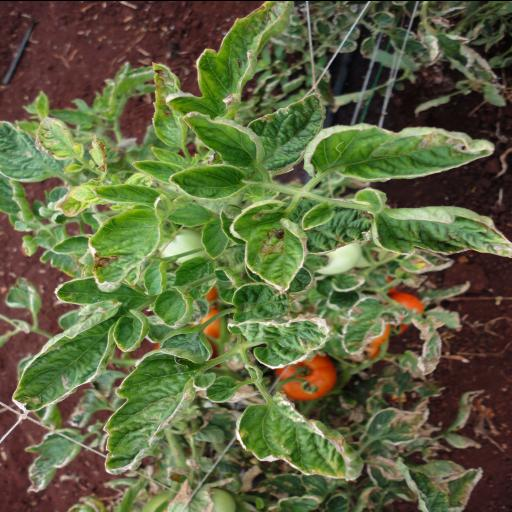disease_tomato: (11, 272, 163, 416), (162, 6, 302, 120), (359, 182, 512, 276), (298, 116, 500, 182), (231, 394, 375, 486), (78, 174, 186, 295), (100, 340, 194, 478), (227, 199, 314, 296), (226, 312, 331, 374), (188, 106, 270, 177), (164, 147, 248, 203)
